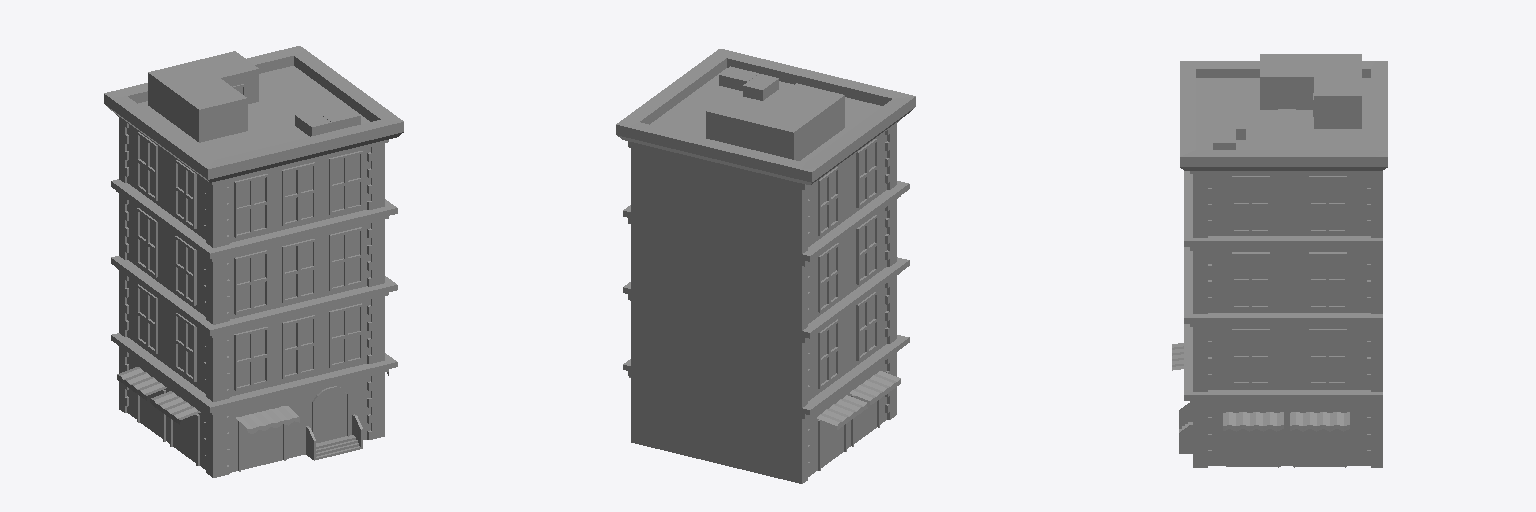
The model's file is building.obj.
The picture shows the model from 3 angles: view 1: azimuth 30°, elevation 25°; view 2: azimuth 150°, elevation 25°; view 3: azimuth 270°, elevation 25°; orthographic projection.
Parts seen in each view (by area): view 1: Cube_Cube.001; view 2: Cube_Cube.001; view 3: Cube_Cube.001.
Part boxes in pixels (x1,y1,x2,y2): Cube_Cube.001: (104, 46, 403, 477); Cube_Cube.001: (616, 49, 915, 483); Cube_Cube.001: (1172, 54, 1387, 467).
Bounding box in the file's own units: 4 × 6.22 × 3.59.